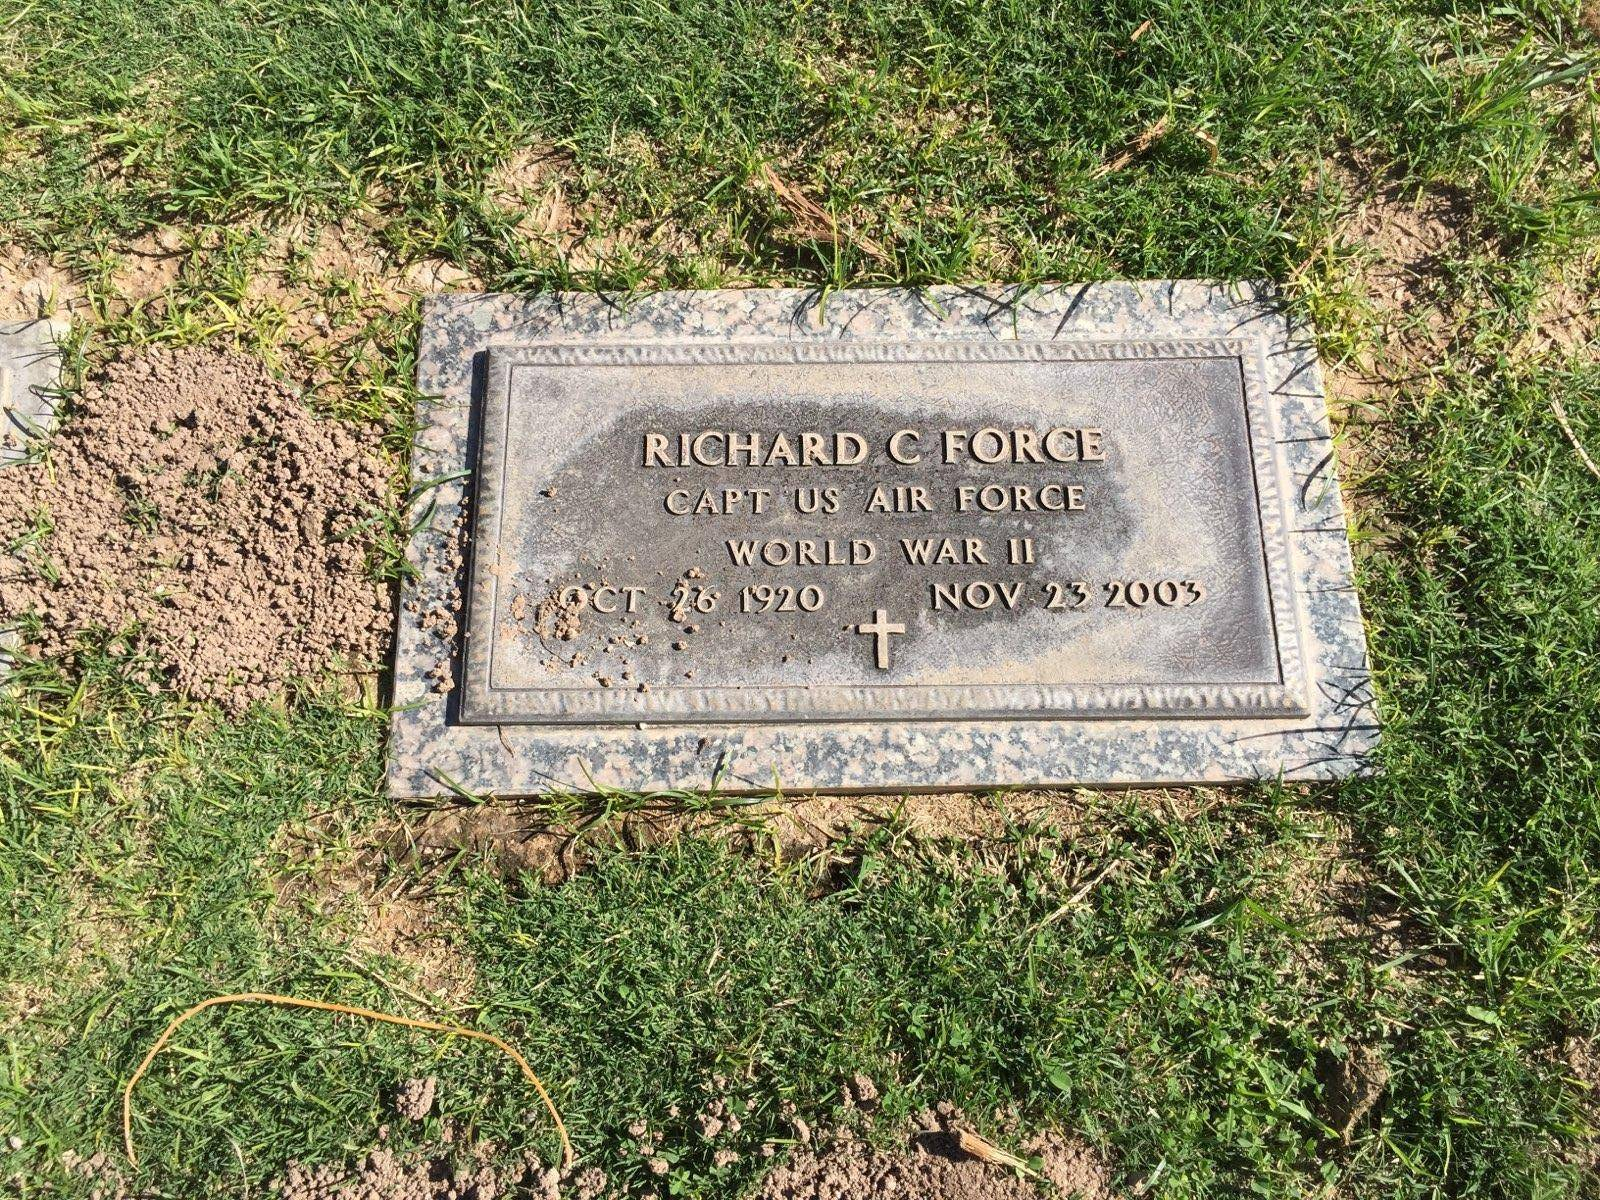flat: (375, 279, 1385, 797)
